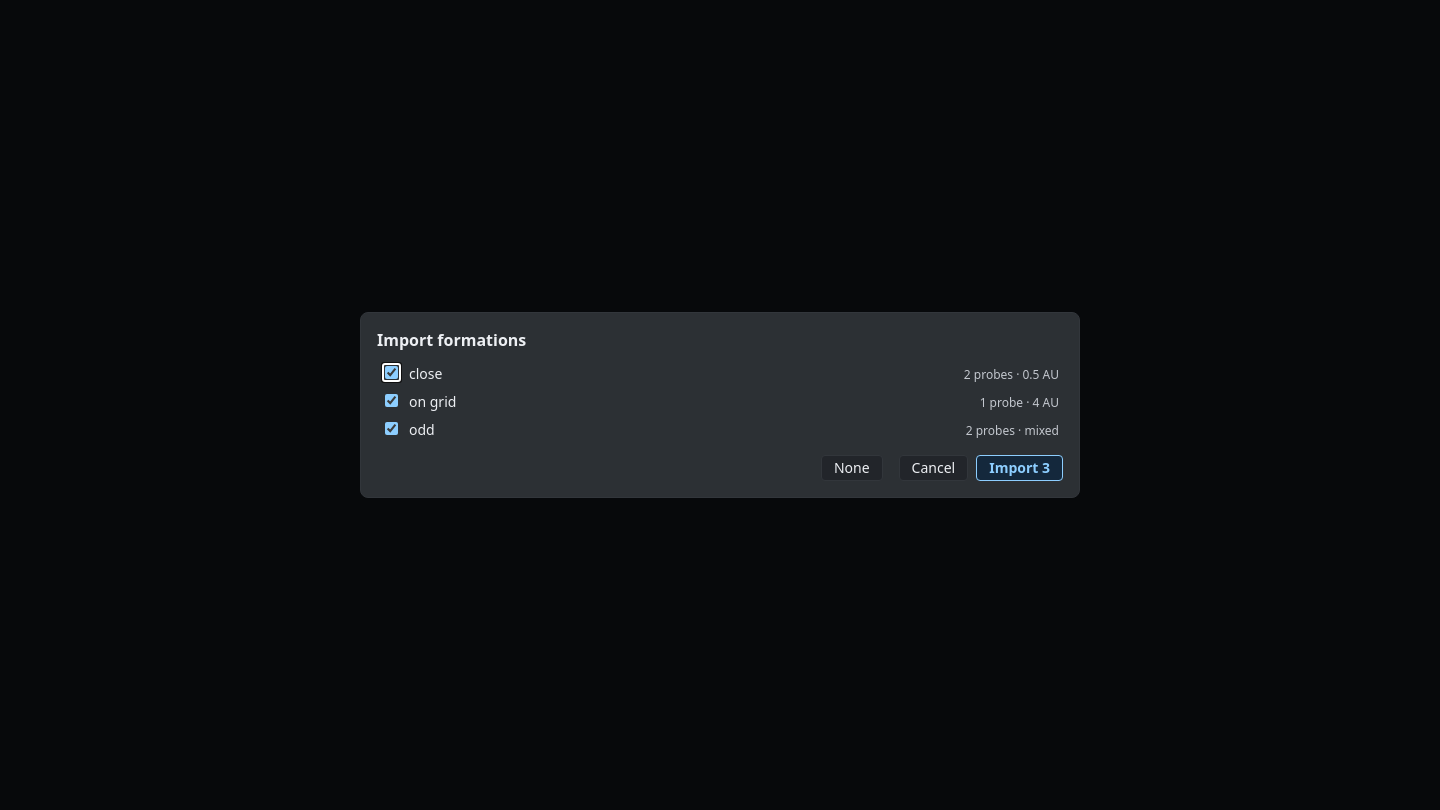
Test case: FormationPicker › clicking the meta text toggles the row, not just the checkbox
Click the text "2 probes · 0.5 AU" at point(1011, 374), box left=964, top=366, right=1059, bottom=383
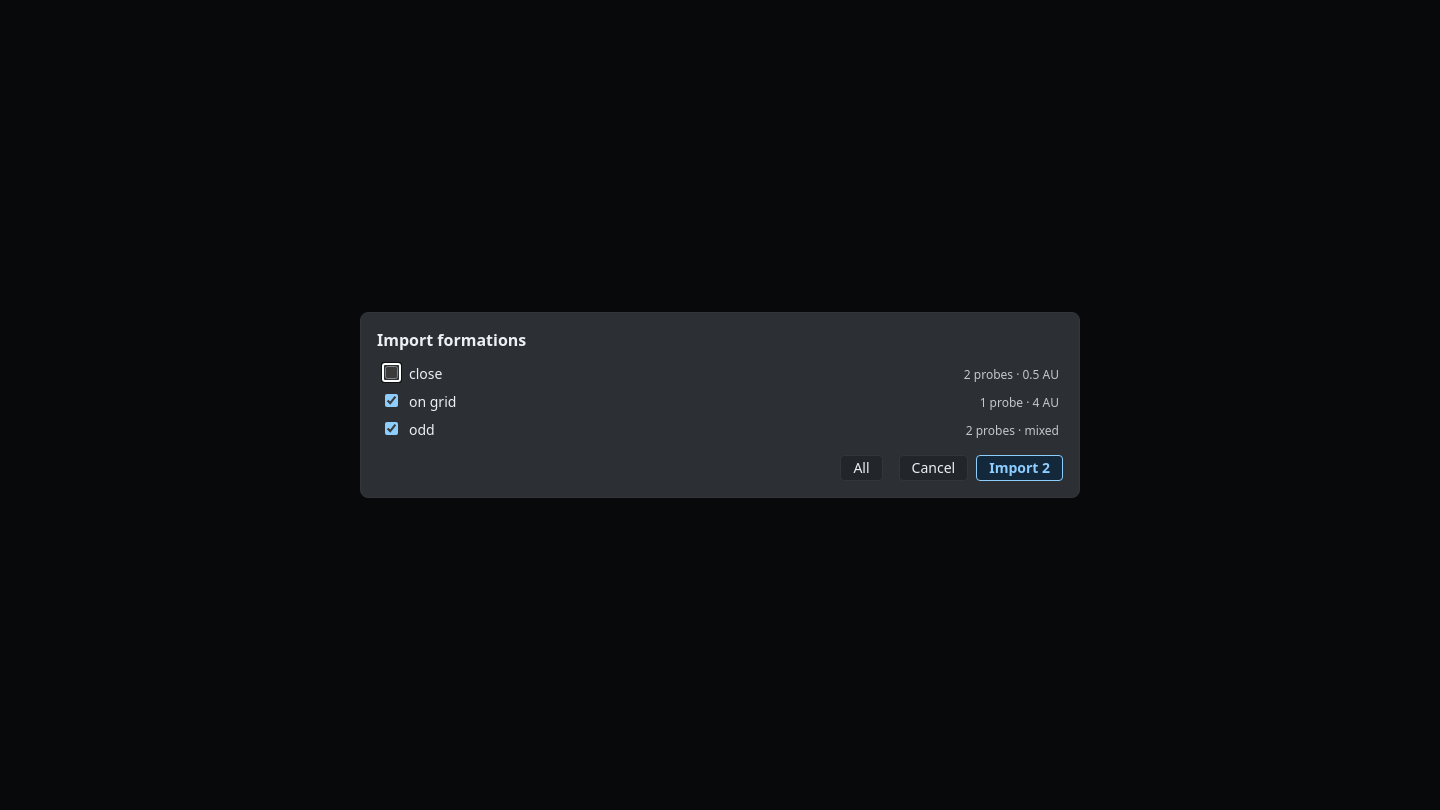
Now the checkbox labelled "close" is not checked, box left=385, top=366, right=398, bottom=379
